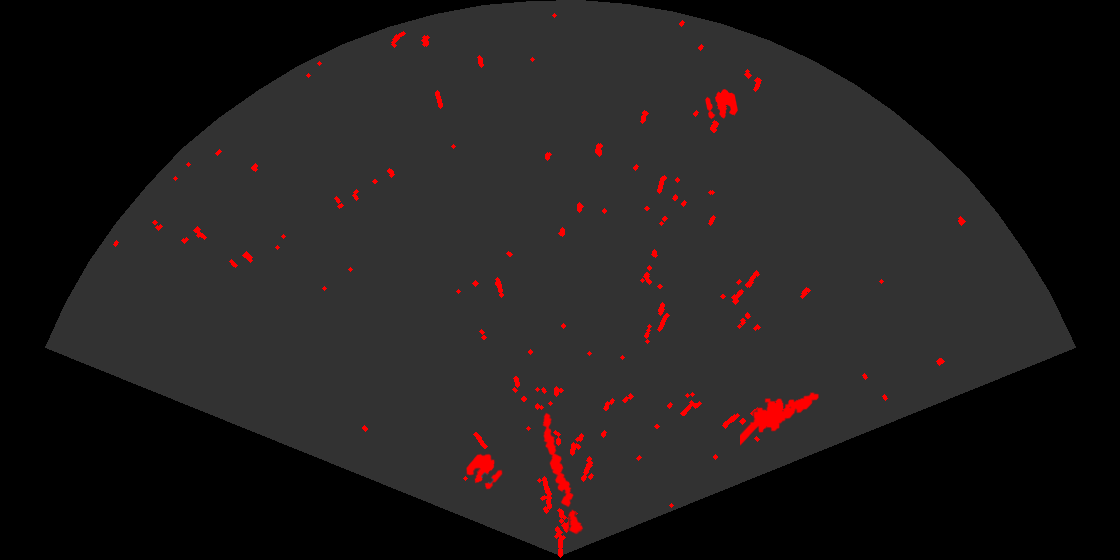ball: (465, 452, 504, 491), (704, 87, 739, 121)
chain: (541, 411, 585, 536)
frogman: (740, 391, 820, 447)
